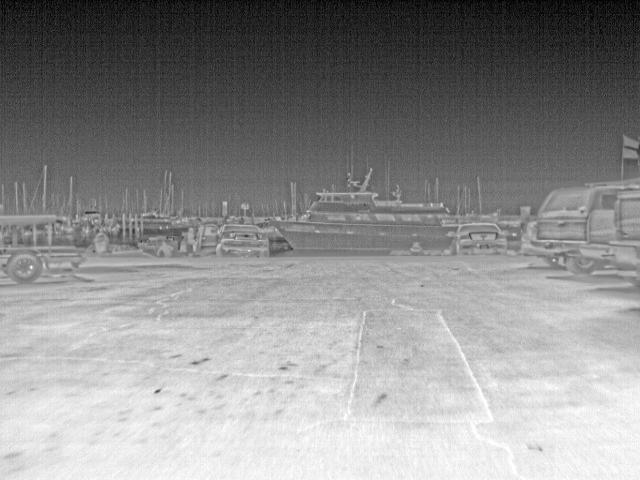car: (539, 182, 640, 277), (194, 222, 272, 259), (614, 184, 639, 284), (447, 220, 511, 256), (577, 209, 613, 260), (518, 220, 538, 258)
person: (184, 224, 198, 256), (155, 239, 175, 259)
